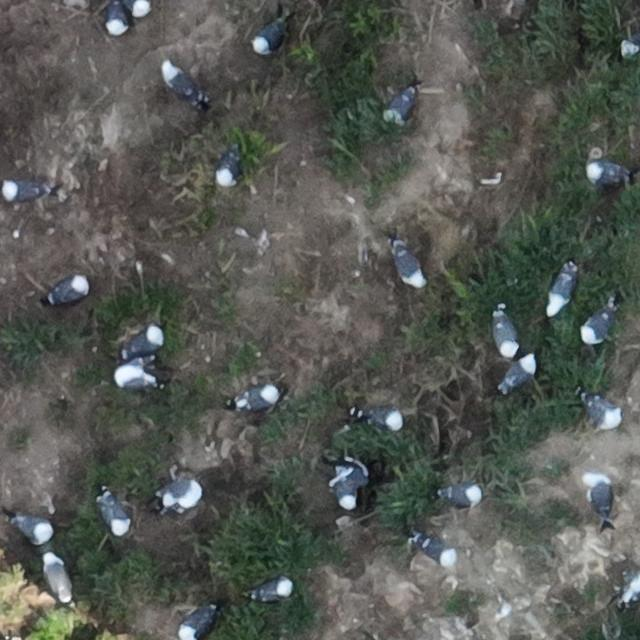umineko: (111, 359, 171, 393), (332, 460, 368, 508), (162, 473, 202, 513), (587, 472, 613, 527), (163, 66, 197, 100), (396, 247, 424, 286), (548, 269, 573, 312), (503, 356, 535, 389), (45, 558, 70, 600), (586, 397, 621, 426), (582, 308, 611, 342), (52, 276, 87, 302), (494, 313, 516, 354), (105, 498, 130, 534), (363, 408, 404, 429), (240, 386, 278, 408), (422, 540, 456, 564), (17, 517, 51, 541), (254, 22, 281, 52), (182, 610, 212, 636), (390, 88, 414, 120), (442, 483, 480, 503), (3, 183, 44, 201), (108, 2, 130, 34), (256, 578, 291, 598), (218, 152, 238, 184), (138, 327, 161, 352), (592, 163, 622, 181)
